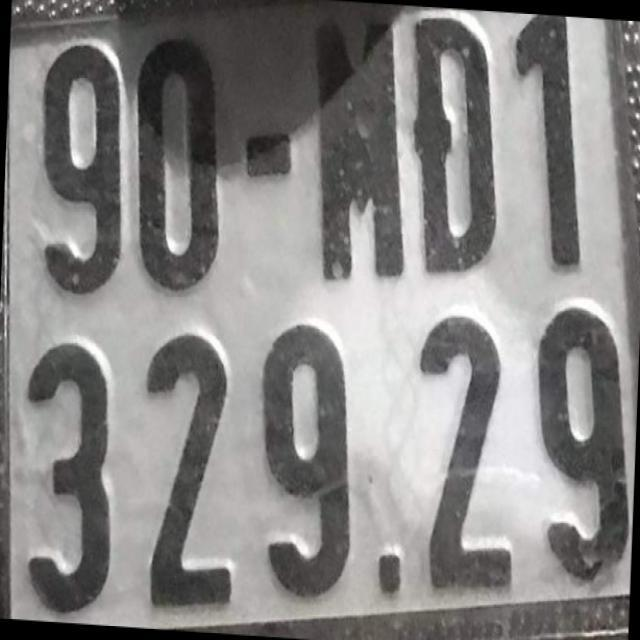0: (133, 26, 230, 297)
1: (512, 13, 587, 274)
2: (410, 302, 520, 598), (136, 321, 242, 615)
3: (17, 336, 120, 618)
9: (252, 314, 360, 602), (528, 298, 632, 586), (29, 29, 128, 301)
D: (399, 14, 507, 282)
M: (308, 11, 406, 282)
